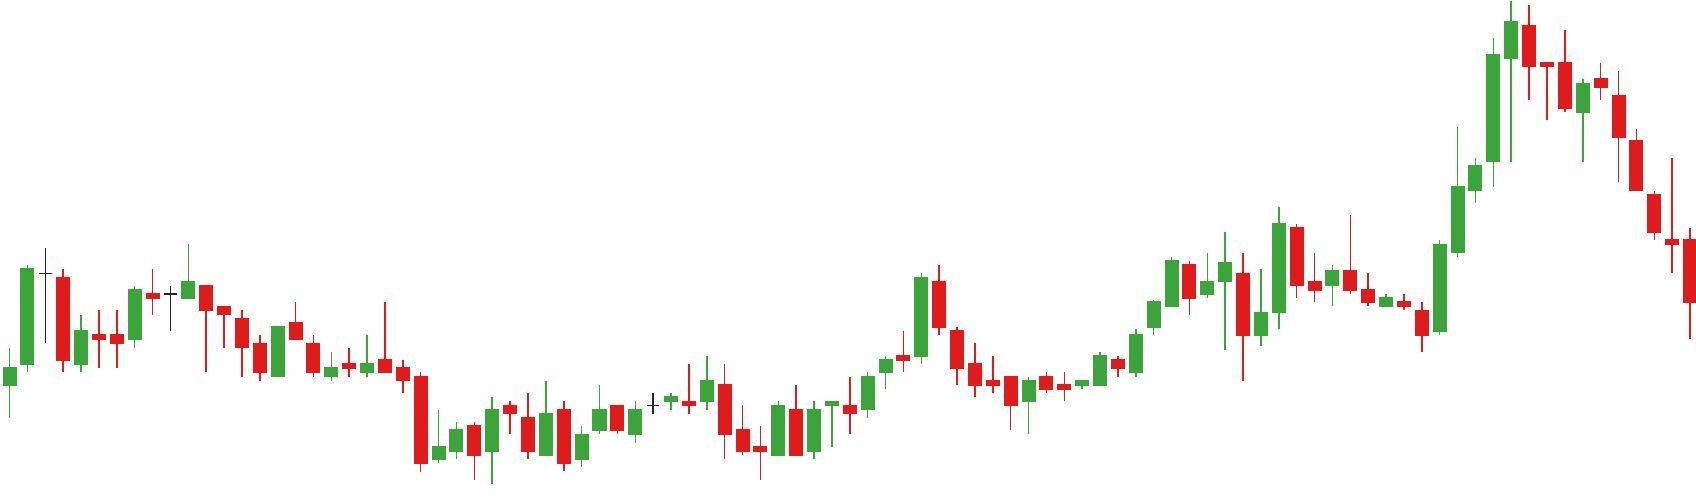buy: (556, 401, 789, 485)
